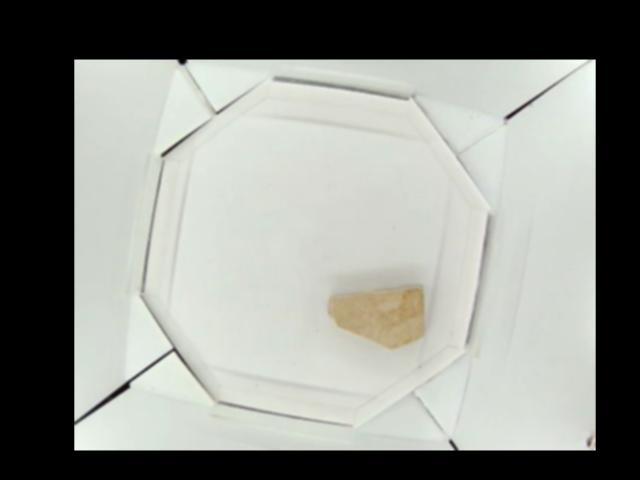China: (330, 283, 426, 344)
